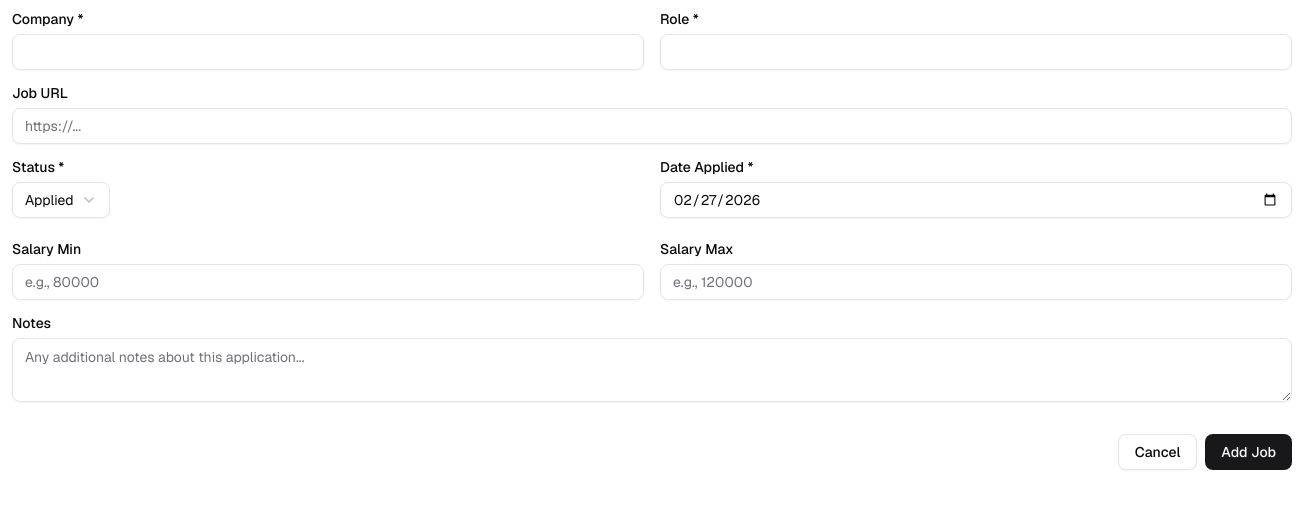
Test: JobForm › should show error after field is touched and blurred
Click the field labelled "Company *": (328, 52) [12,34,644,70]
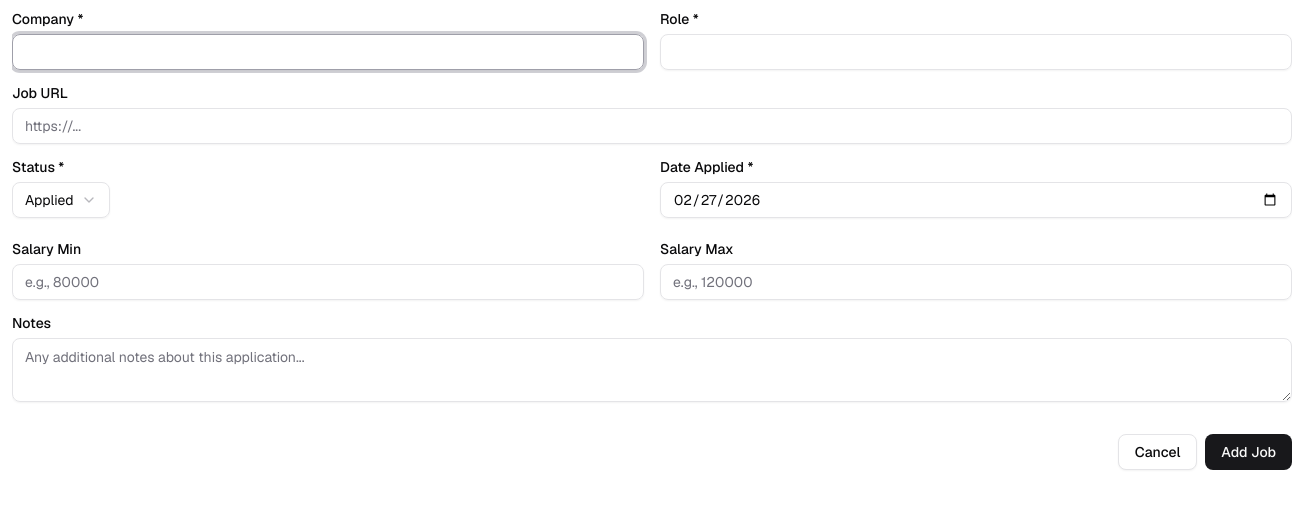
Leave the field labelled "Company *", box [12,34,644,70]
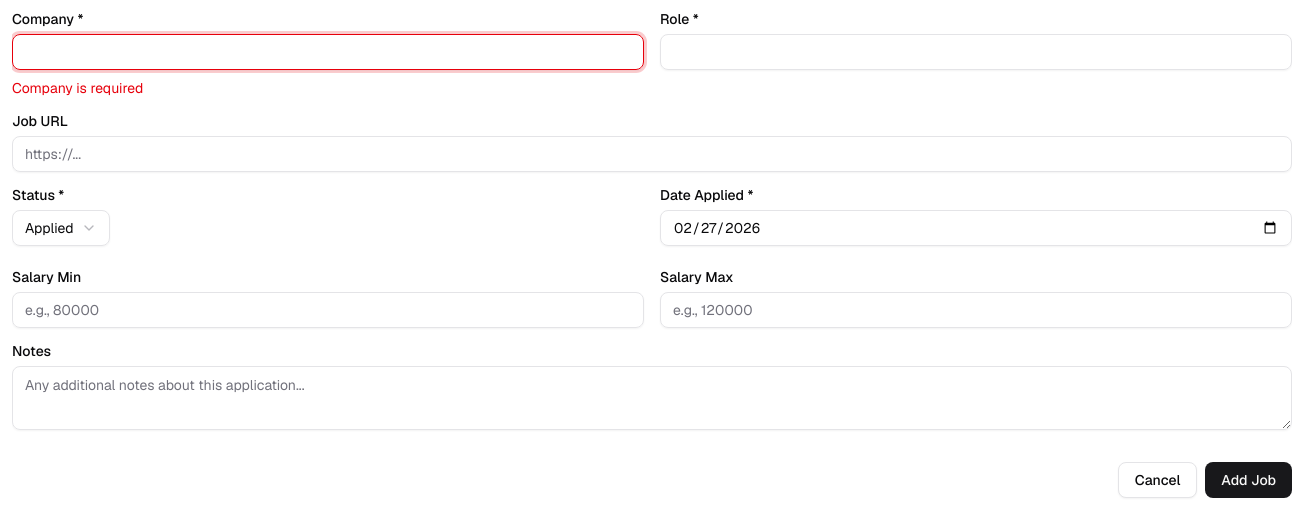
Now the text "Company is required" is shown, box [12,79,143,97]
